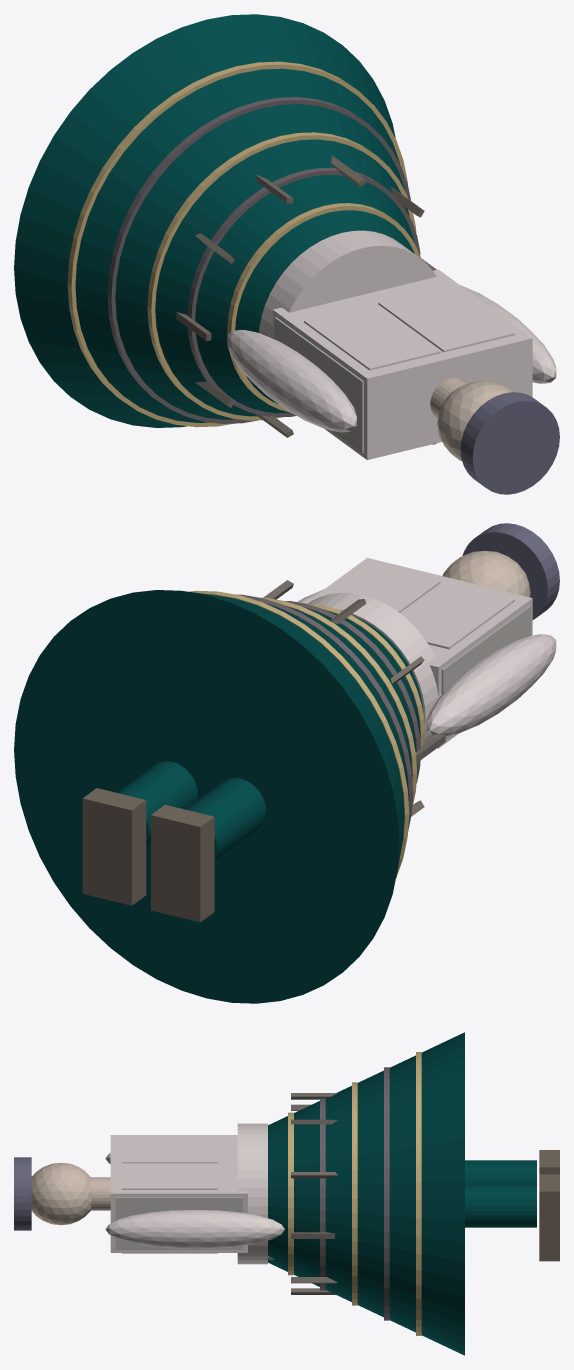
The model's file is MASTER_070_STAGE3_DETAIL.glb.
The picture shows the model from 3 angles, top to bottom: view 1: azimuth 30°, elevation 25°; view 2: azimuth 150°, elevation 25°; view 3: azimuth 270°, elevation 25°; orthographic projection. The views are drawn at different scales.
Visible parts, largest first — view 1: slot_lower_main__xhubletë, slot_upper_inner__këmishë, slot_waist__brez, slot_headwear__mbulesë_koke, slot_upper_inner_sleeve_L, slot_trim__xhubleta_band_1, slot_upper_outer__jelek_R, slot_upper_outer__jelek_L, slot_trim__xhubleta_band_2, slot_trim__xhubleta_band_3, slot_trim__xhubleta_band_4, mannequin_torso (+4 smaller); view 2: slot_lower_main__xhubletë, slot_footwear__opinga_R, slot_footwear__opinga_L, slot_upper_inner_sleeve_L, slot_upper_outer__jelek_L, slot_waist__brez, slot_headwear__mbulesë_koke, slot_legwear__çorape_L, slot_upper_inner__këmishë, slot_legwear__çorape_R, slot_upper_outer__jelek_R, mannequin_head (+6 smaller); view 3: slot_lower_main__xhubletë, slot_upper_inner_sleeve_R, slot_upper_inner__këmishë, mannequin_head, slot_waist__brez, slot_legwear__çorape_R, slot_upper_outer__jelek_R, slot_upper_outer__jelek_L, mannequin_torso, slot_footwear__opinga_R, slot_legwear__çorape_L, slot_trim__xhubleta_band_1 (+7 smaller).
Part boxes in pixels (bbox=[...]): slot_lower_main__xhubletë: bbox=[14, 14, 414, 427]; slot_upper_inner__këmishë: bbox=[273, 269, 532, 460]; slot_waist__brez: bbox=[259, 230, 436, 338]; slot_headwear__mbulesë_koke: bbox=[460, 392, 559, 494]; slot_upper_inner_sleeve_L: bbox=[227, 329, 356, 432]; slot_trim__xhubleta_band_1: bbox=[67, 61, 407, 427]; slot_upper_outer__jelek_R: bbox=[378, 285, 514, 352]; slot_upper_outer__jelek_L: bbox=[304, 303, 440, 370]; slot_trim__xhubleta_band_2: bbox=[107, 97, 410, 423]; slot_trim__xhubleta_band_3: bbox=[147, 132, 416, 420]; slot_trim__xhubleta_band_4: bbox=[187, 167, 420, 417]; mannequin_torso: bbox=[274, 317, 363, 453]; slot_lower_main__xhubletë: bbox=[14, 590, 423, 1003]; slot_footwear__opinga_R: bbox=[82, 788, 146, 905]; slot_footwear__opinga_L: bbox=[151, 804, 214, 922]; slot_upper_inner_sleeve_L: bbox=[426, 634, 556, 736]; slot_upper_outer__jelek_L: bbox=[401, 582, 514, 649]; slot_waist__brez: bbox=[307, 592, 441, 745]; slot_headwear__mbulesë_koke: bbox=[462, 523, 559, 619]; slot_legwear__çorape_L: bbox=[185, 778, 266, 860]; slot_upper_inner__këmishë: bbox=[305, 557, 532, 748]; slot_legwear__çorape_R: bbox=[117, 761, 197, 843]; slot_upper_outer__jelek_R: bbox=[328, 564, 440, 612]; mannequin_head: bbox=[442, 551, 530, 597]; slot_lower_main__xhubletë: bbox=[268, 1032, 464, 1355]; slot_upper_inner_sleeve_R: bbox=[105, 1210, 284, 1248]; slot_upper_inner__këmishë: bbox=[110, 1135, 247, 1252]; mannequin_head: bbox=[31, 1162, 91, 1225]; slot_waist__brez: bbox=[237, 1123, 267, 1264]; slot_legwear__çorape_R: bbox=[465, 1184, 536, 1227]; slot_upper_outer__jelek_R: bbox=[121, 1163, 217, 1253]; slot_upper_outer__jelek_L: bbox=[121, 1137, 217, 1163]; mannequin_torso: bbox=[115, 1197, 242, 1249]; slot_footwear__opinga_R: bbox=[539, 1174, 559, 1261]; slot_legwear__çorape_L: bbox=[465, 1160, 536, 1184]; slot_trim__xhubleta_band_1: bbox=[416, 1052, 421, 1335].
Size of the model in its own units: 1.01 by 1.01 by 1.71.
